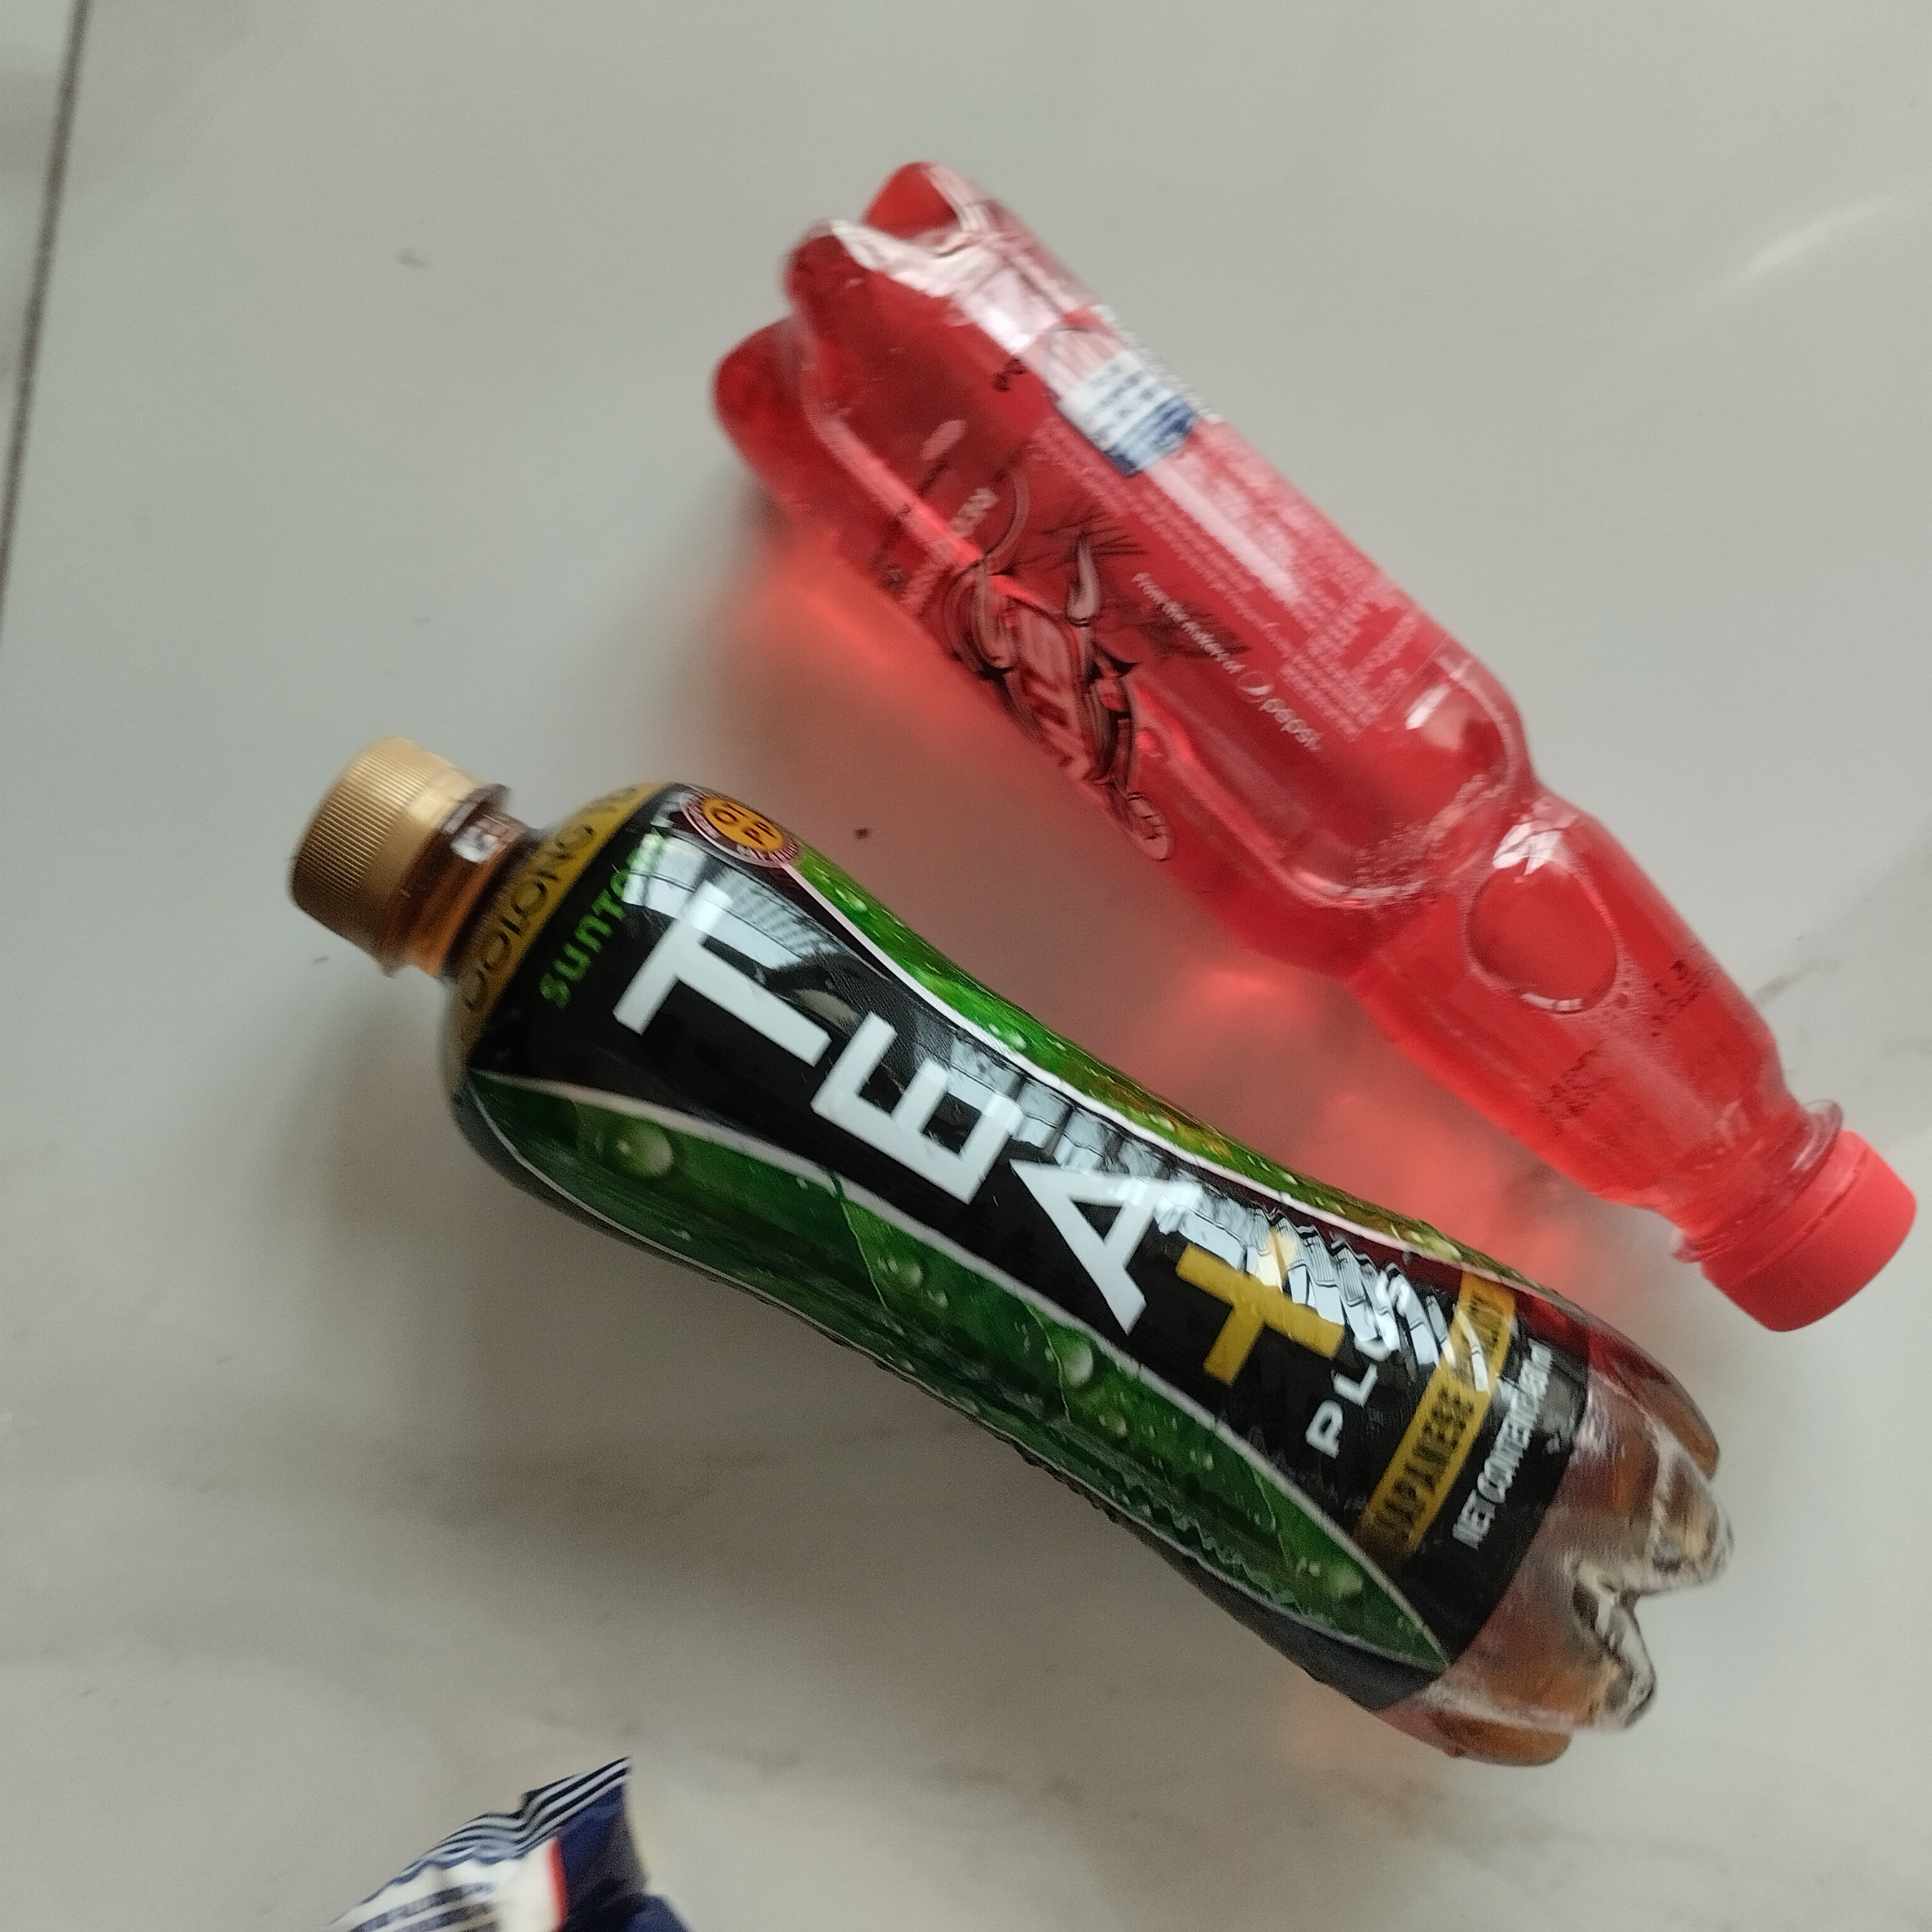Olong: (288, 741, 1750, 1780)
Sting: (708, 157, 1923, 1343)
